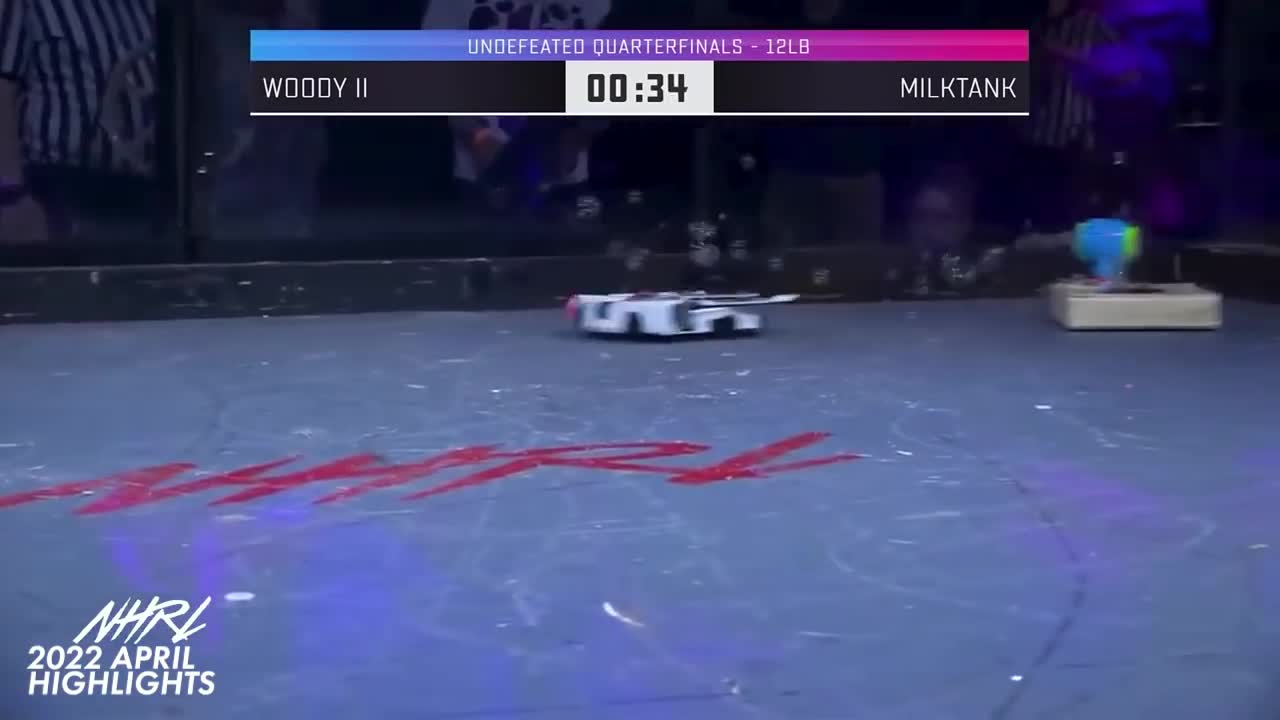combatbot: (1046, 271, 1226, 337), (562, 288, 762, 343)
